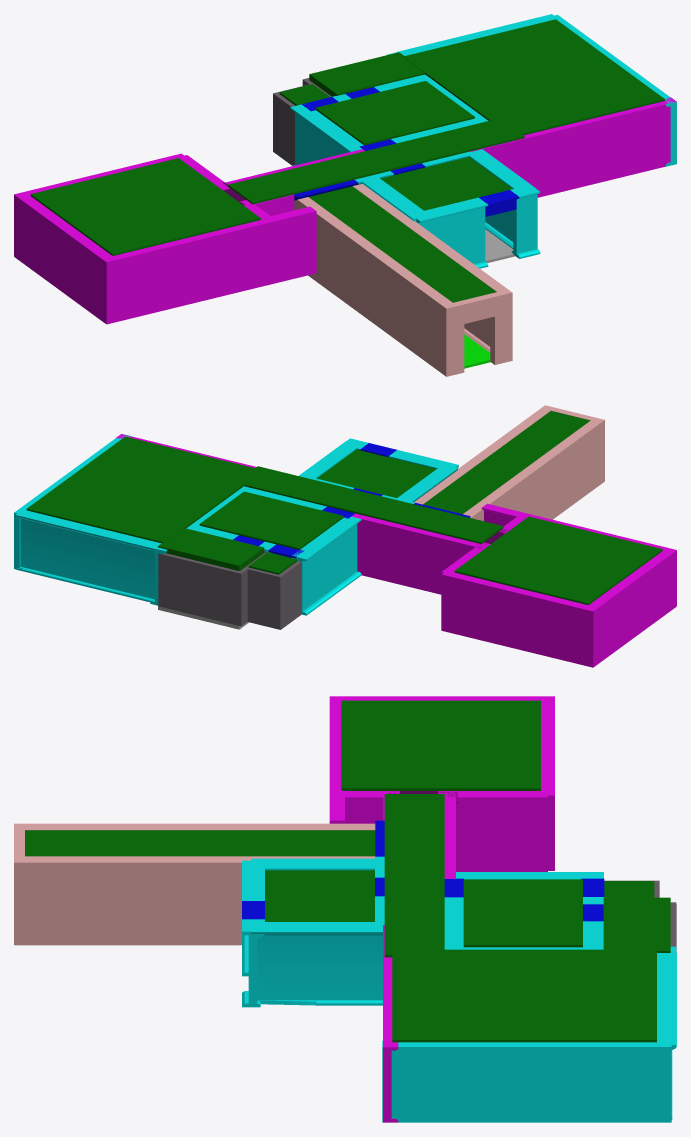
The model's file is basemesh 1.fbx.
3 renders of one model, top to bottom at view 1: azimuth 30°, elevation 25°; view 2: azimuth 150°, elevation 25°; view 3: azimuth 270°, elevation 25°, orthographic. The views are drawn at different scales.
Parts seen in each view (by area): view 1: pCube5321, pCube5265, pCube5316, pCube5275, pCube5286, pCube5320, pCube5277, pCube5267, pCube5318, pCube5314, pCube5290, pCube5283 (+16 smaller); view 2: pCube5321, pCube5316, pCube5276, pCube5312, pCube5265, pCube5281, pCube5320, pCube5277, pCube5267, pCube5318, pCube5306, pCube5298 (+13 smaller); view 3: pCube5321, pCube5265, pCube5313, pCube5316, pCube5287, pCube5320, pCube5267, pCube5318, pCube5278, pCube5314, pCube5317, pCube5312 (+12 smaller).
Part boxes in pixels (left/top/right/bottom): pCube5321: left=403, top=19, right=664, bottom=136; pCube5265: left=294, top=184, right=512, bottom=376; pCube5316: left=30, top=158, right=260, bottom=255; pCube5275: left=105, top=217, right=273, bottom=324; pCube5286: left=470, top=97, right=676, bottom=197; pCube5320: left=228, top=120, right=524, bottom=204; pCube5277: left=14, top=192, right=115, bottom=323; pCube5267: left=309, top=186, right=496, bottom=302; pCube5318: left=315, top=81, right=474, bottom=145; pCube5314: left=380, top=157, right=512, bottom=210; pCube5290: left=416, top=197, right=488, bottom=268; pCube5283: left=270, top=206, right=316, bottom=282; pCube5321: left=26, top=436, right=263, bottom=543; pCube5316: left=454, top=516, right=662, bottom=605; pCube5276: left=441, top=571, right=597, bottom=667; pCube5312: left=15, top=511, right=160, bottom=602; pCube5265: left=414, top=405, right=604, bottom=521; pCube5281: left=351, top=513, right=479, bottom=594; pCube5320: left=237, top=466, right=503, bottom=543; pCube5277: left=585, top=548, right=675, bottom=666; pCube5267: left=423, top=411, right=590, bottom=514; pCube5318: left=199, top=491, right=343, bottom=549; pCube5306: left=158, top=553, right=240, bottom=625; pCube5298: left=292, top=516, right=361, bottom=615; pCube5321: left=392, top=949, right=656, bottom=1042; pCube5265: left=14, top=823, right=375, bottom=945; pCube5313: left=382, top=1040, right=671, bottom=1122; pCube5316: left=341, top=700, right=540, bottom=790; pCube5287: left=251, top=922, right=384, bottom=1005; pCube5320: left=384, top=794, right=444, bottom=957; pCube5267: left=25, top=830, right=375, bottom=856; pCube5318: left=463, top=879, right=582, bottom=947; pCube5278: left=438, top=791, right=547, bottom=871; pCube5314: left=265, top=870, right=374, bottom=921; pCube5317: left=603, top=897, right=670, bottom=952; pCube5312: left=657, top=953, right=676, bottom=1119.
Bounding box in the file's own units: 26.91 × 3.17 × 21.48.
